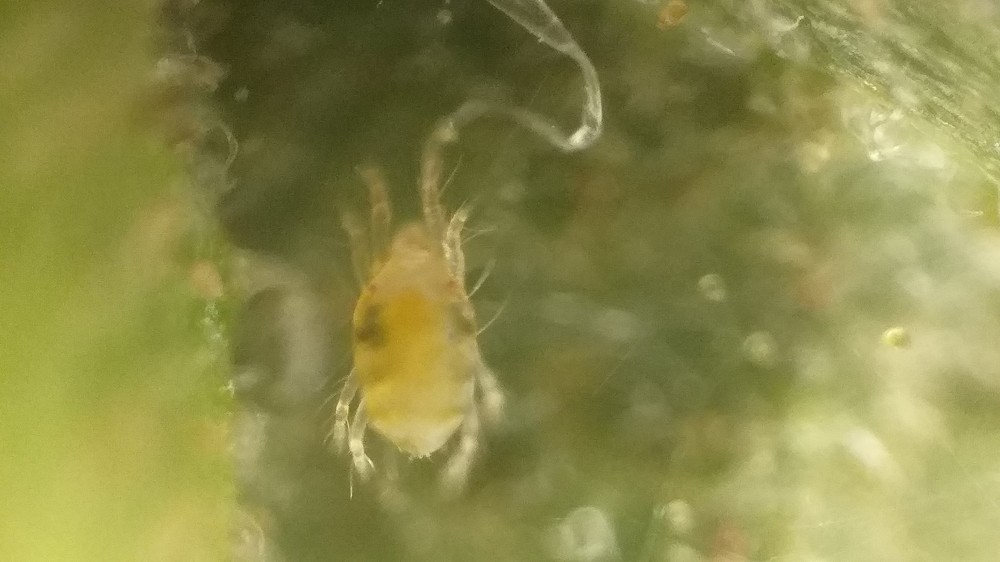Aracnido Rojo: (292, 145, 538, 509)
